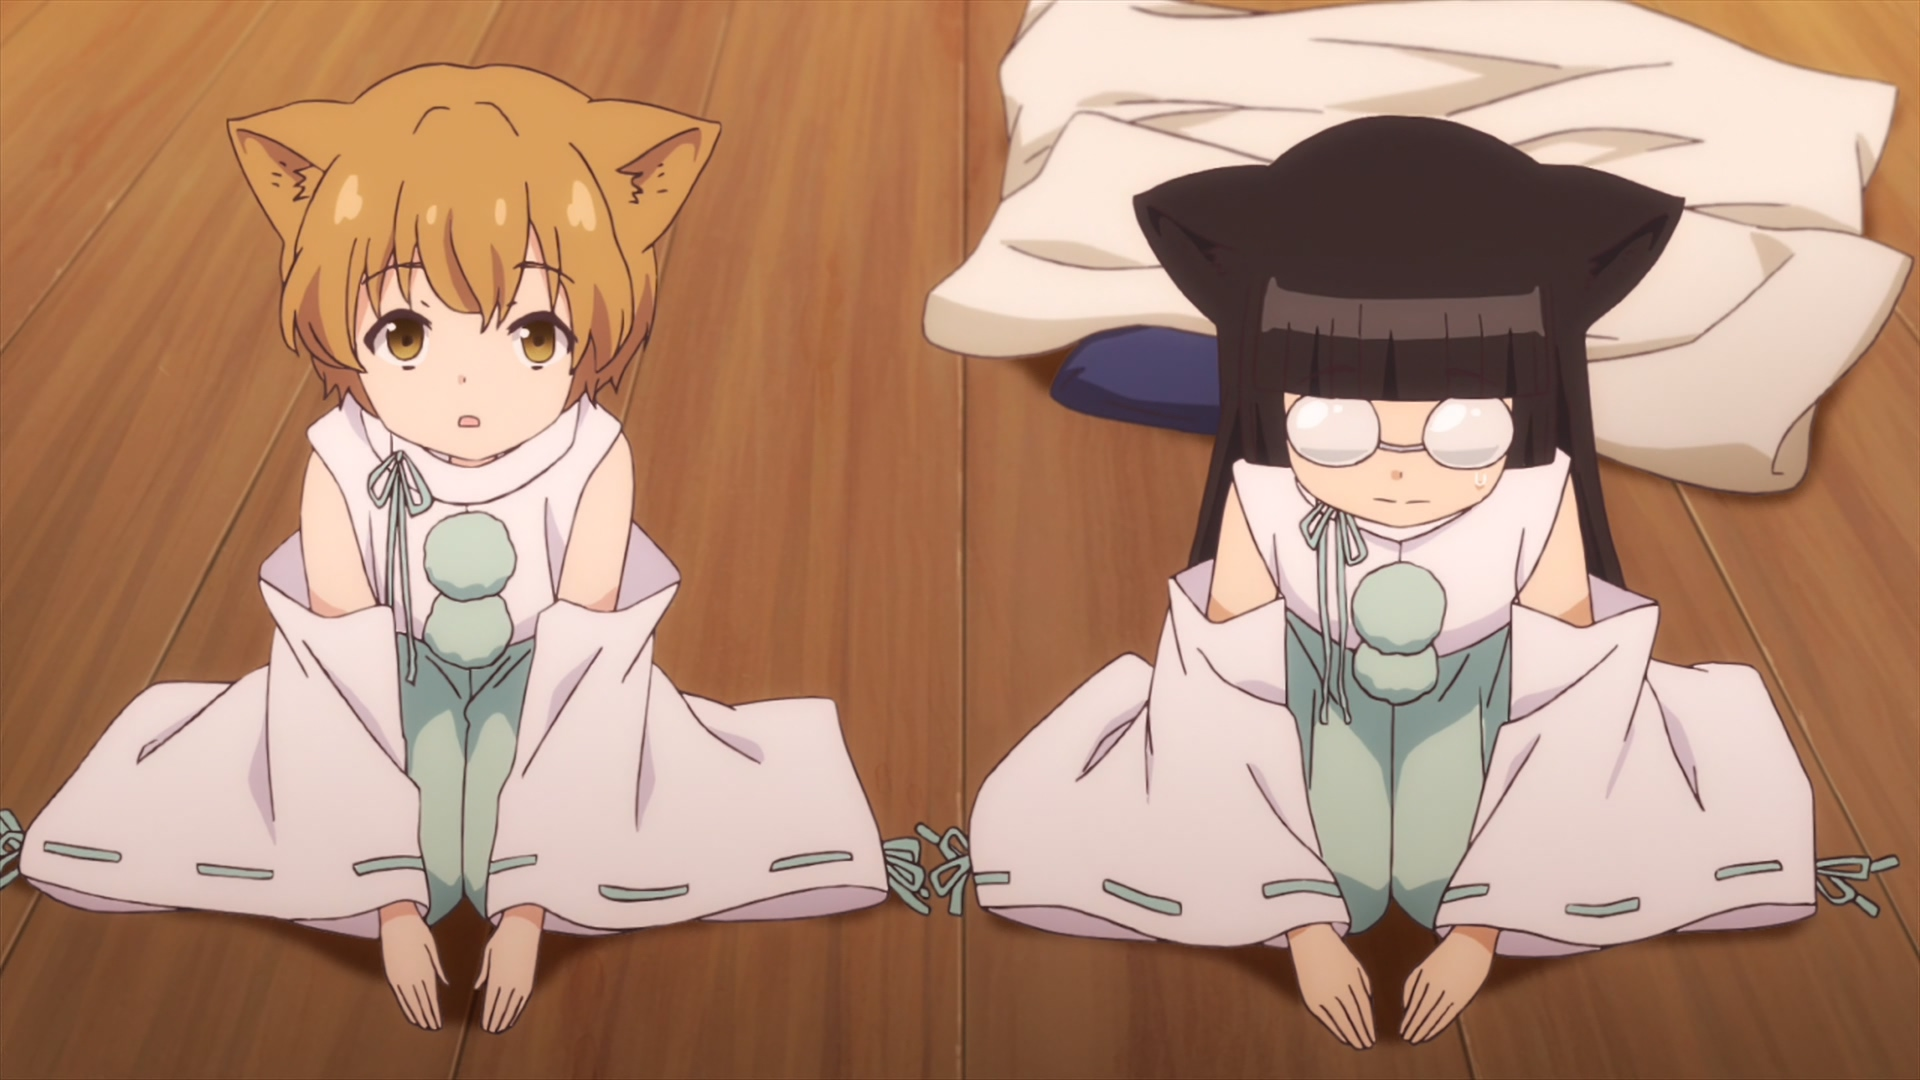其他: (915, 113, 1902, 1054), (1, 63, 927, 1031)
